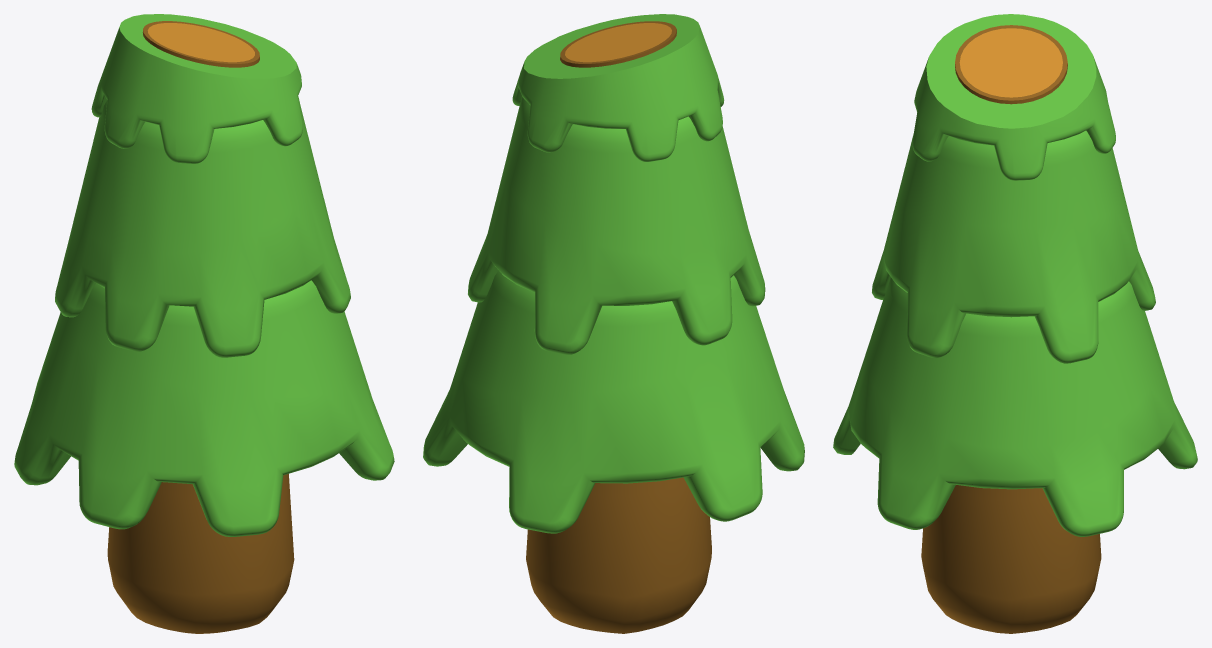
Rendered from tree 80%.fbx.
The picture shows the model from 3 angles, left to right: view 1: azimuth 30°, elevation 25°; view 2: azimuth 150°, elevation 25°; view 3: azimuth 270°, elevation 25°; orthographic projection. The views are drawn at different scales.
Visible parts, largest first — view 1: Cylinder.111; view 2: Cylinder.111; view 3: Cylinder.111.
Part boxes in pixels (<box>): Cylinder.111: <box>14,14,394,633</box>; Cylinder.111: <box>423,14,804,633</box>; Cylinder.111: <box>833,14,1197,633</box>.
Bounding box in the file's own units: 3694 × 6548 × 3838.
